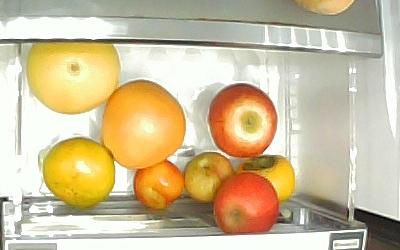apple: (208, 83, 278, 158), (214, 173, 279, 235)
grapefruit: (100, 78, 186, 171), (26, 44, 121, 115)
persimmon: (41, 135, 116, 209), (236, 154, 295, 202)
prune: (183, 151, 236, 202), (133, 159, 184, 210)
